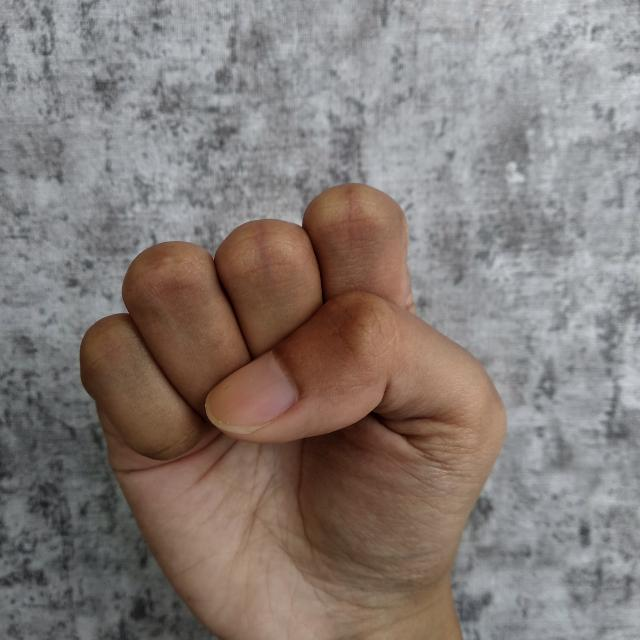S: (76, 176, 513, 640)
